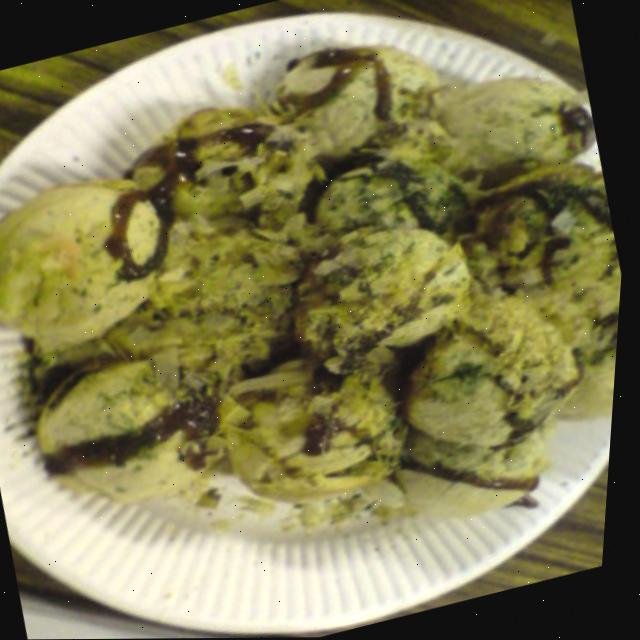炸货点心: (0, 51, 637, 640)
